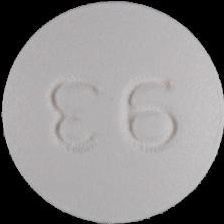69189-0314: (0, 0, 224, 224)
